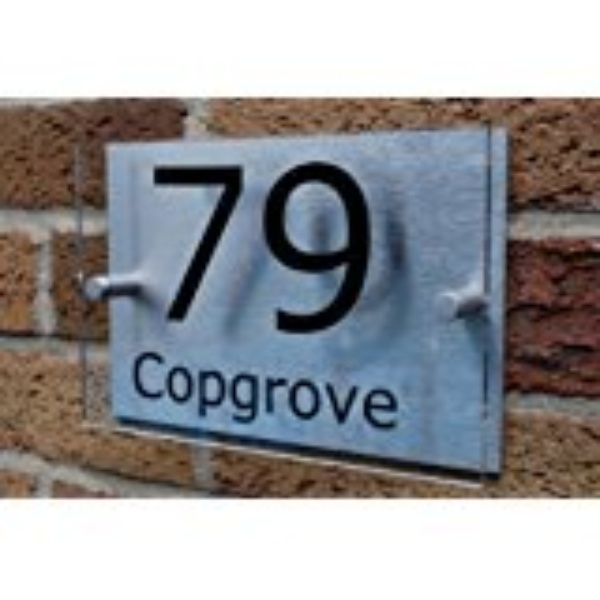text: (161, 158, 176, 346), (177, 158, 192, 346), (193, 158, 208, 346), (209, 158, 224, 346), (225, 158, 240, 346), (241, 158, 256, 346), (257, 158, 272, 346), (273, 158, 288, 346), (289, 158, 304, 346), (305, 158, 320, 346), (321, 158, 336, 346), (337, 158, 352, 346), (353, 158, 368, 346), (151, 158, 160, 346), (129, 346, 144, 451), (145, 346, 160, 451), (161, 346, 176, 451), (177, 346, 192, 451), (193, 346, 208, 451), (209, 346, 224, 451), (225, 346, 240, 451), (241, 346, 256, 451), (257, 346, 272, 451), (273, 346, 288, 451), (289, 346, 304, 451), (305, 346, 320, 451), (321, 346, 336, 451), (337, 346, 352, 451), (353, 346, 368, 451), (369, 346, 384, 451), (385, 346, 398, 451), (369, 158, 376, 346)
